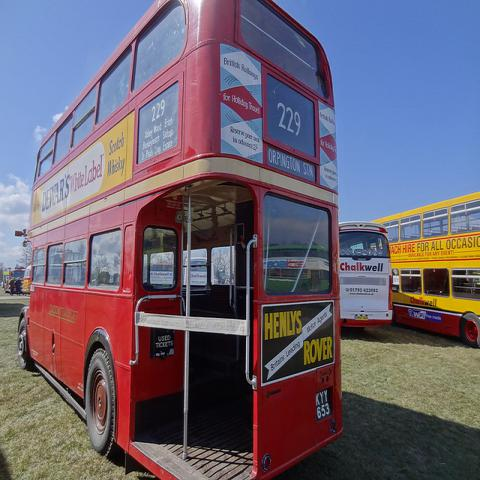bus: (14, 0, 345, 475), (368, 190, 480, 346), (342, 223, 395, 325)
